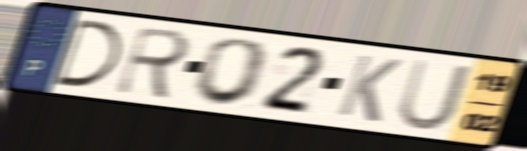2: (254, 44, 329, 117)
D: (51, 16, 124, 90)
K: (334, 52, 405, 126)
O: (189, 36, 274, 109)
R: (111, 24, 195, 103)
U: (394, 56, 475, 133)
